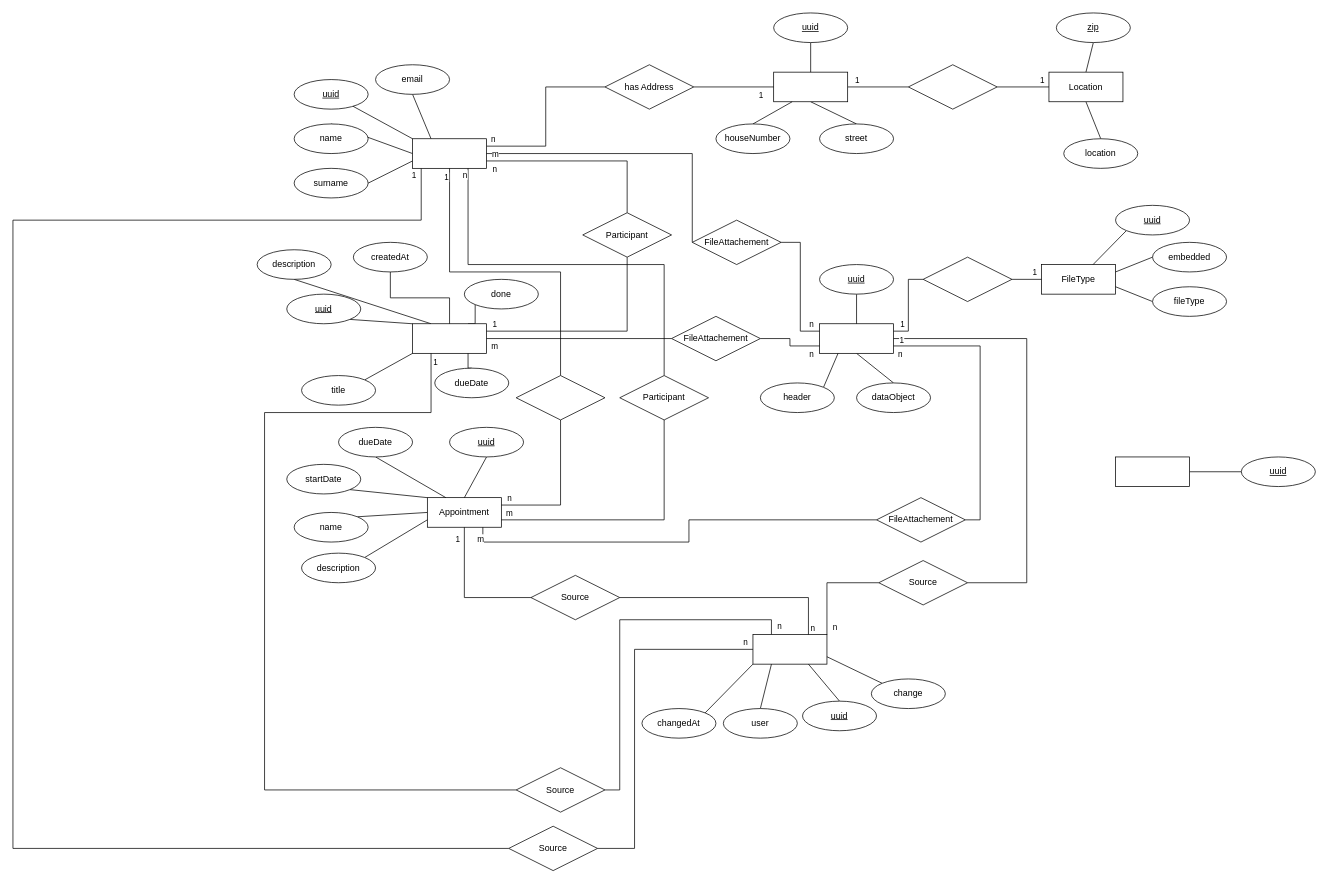
Some shapes in this 1328 by 884 pixel diagram are drawn without their labels. Each missing label, with the centre of its shape:
"Address" goes at (x=810, y=86).
"Contact" goes at (x=449, y=153).
"Data" goes at (x=856, y=338).
"has Format" goes at (x=967, y=279).
"Has Location" goes at (x=952, y=86).
"IsOwner" goes at (x=560, y=397).
"Logging" goes at (x=789, y=649).
"SystemID" goes at (x=1152, y=471).
"ToDo's" goes at (x=449, y=338).
